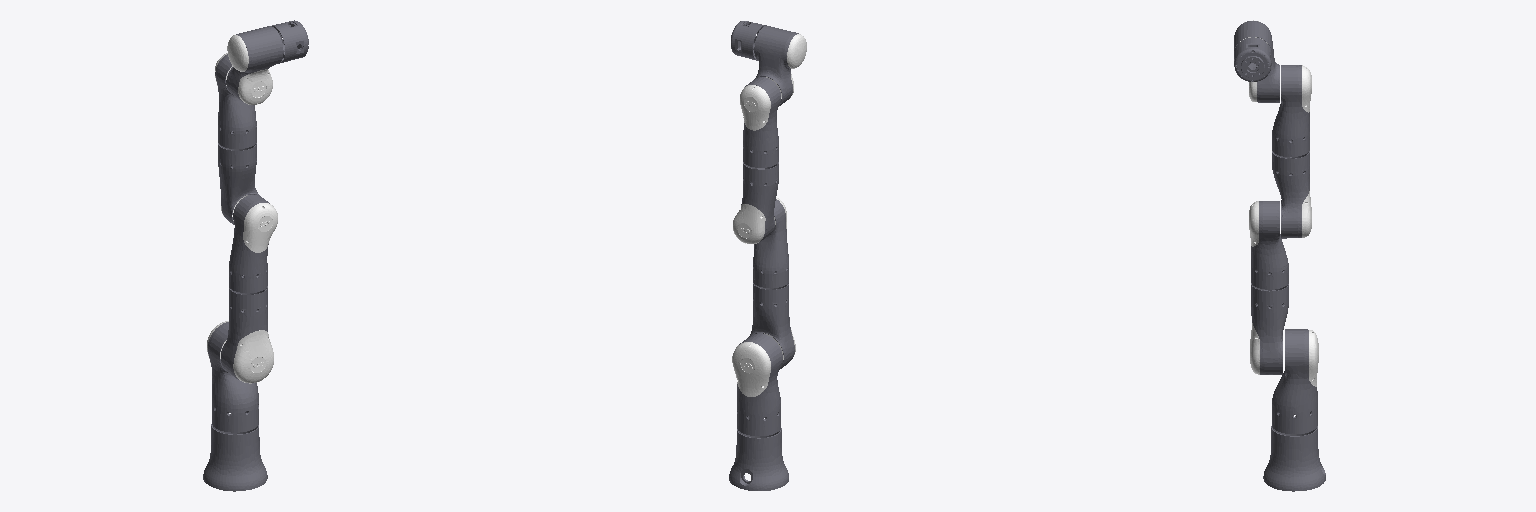
robot.urdf — flexiv_rizon4:
<?xml version="1.0"?>
<!-- ======================================================================== -->
<!-- | Flexiv Rizon4 Arm (Approximated dynamic parameters)                  | -->
<!-- ======================================================================== -->
<robot name="flexiv_rizon4">
  <!-- ============================ Link Configuration ===================== -->
  <link name="world" />
  <!-- ============ base link =========== -->
  <link name="base">
    <inertial>
      <mass value="3.6" />
      <origin rpy="0 0 0" xyz="0.0 0.0 0.09" />
      <inertia ixx="0.02" iyy="0.02" izz="0.009" ixy="0" ixz="0" iyz="0" />
    </inertial>
    <visual>
      <origin rpy="0 0 0" xyz="0 0 0" />
      <geometry>
        <mesh filename="meshes/visual/link0.dae" />
      </geometry>
    </visual>
    <collision>
      <origin xyz="0 0 0" rpy="0 0 0" />
      <geometry>
        <mesh filename="meshes/collision/link0.stl" />
      </geometry>
    </collision>
  </link>
  <!-- ============ link 1 ============= -->
  <link name="link1">
    <inertial>
      <mass value="3.6" />
      <origin rpy="0 0 0" xyz="0.0 0.005 0.15" />
      <inertia ixx="0.027" iyy="0.027" izz="0.007" ixy="0" ixz="0" iyz="0.0016" />
    </inertial>
    <visual>
      <origin rpy="0 0 0" xyz="0 0 0" />
      <geometry>
        <mesh filename="meshes/visual/link1.dae" />
      </geometry>
    </visual>
    <collision>
      <origin xyz="0 0 0" rpy="0 0 0" />
      <geometry>
        <mesh filename="meshes/collision/link1.stl" />
      </geometry>
    </collision>
  </link>
  <!-- ============ link 2 ============= -->
  <link name="link2">
    <inertial>
      <mass value="2.7" />
      <origin rpy="0 0 0" xyz="0.0 0.036 0.1" />
      <inertia ixx="0.023" iyy="0.023" izz="0.004" ixy="0" ixz="0" iyz="0.0003" />
    </inertial>
    <visual>
      <origin rpy="0 0 0" xyz="0 0 0" />
      <geometry>
        <mesh filename="meshes/visual/link2.dae" />
      </geometry>
    </visual>
    <collision>
      <origin xyz="0 0 0" rpy="0 0 0" />
      <geometry>
        <mesh filename="meshes/collision/link2.stl" />
      </geometry>
    </collision>
  </link>
  <!-- ============ link 3 ============= -->
  <link name="link3">
    <inertial>
      <mass value="2.5" />
      <origin rpy="0 0 0" xyz="-0.011 0.0 0.13" />
      <inertia ixx="0.015" iyy="0.015" izz="0.004" ixy="0.0" ixz="-0.002" iyz="0.0" />
    </inertial>
    <visual>
      <origin rpy="0 0 0" xyz="0 0 0" />
      <geometry>
        <mesh filename="meshes/visual/link3.dae" />
      </geometry>
    </visual>
    <collision>
      <origin xyz="0 0 0" rpy="0 0 0" />
      <geometry>
        <mesh filename="meshes/collision/link3.stl" />
      </geometry>
    </collision>
  </link>
  <!-- ============ link 4 ============= -->
  <link name="link4">
    <inertial>
      <mass value="2.45" />
      <origin rpy="0 0 0" xyz="-0.012 0.03 0.097" />
      <inertia ixx="0.02" iyy="0.02" izz="0.003" ixy="0.0" ixz="-0.002" iyz="-0.001" />
    </inertial>
    <visual>
      <origin rpy="0 0 0" xyz="0 0 0" />
      <geometry>
        <mesh filename="meshes/visual/link4.dae" />
      </geometry>
    </visual>
    <collision>
      <origin xyz="0 0 0" rpy="0 0 0" />
      <geometry>
        <mesh filename="meshes/collision/link4.stl" />
      </geometry>
    </collision>
  </link>
  <!-- ============ link 5 ============= -->
  <link name="link5">
    <inertial>
      <mass value="2.4" />
      <origin rpy="0 0 0" xyz="0.0 0.0 0.13" />
      <inertia ixx="0.015" iyy="0.014" izz="0.004" ixy="0" ixz="0.0" iyz="0.0008" />
    </inertial>
    <visual>
      <origin rpy="0 0 0" xyz="0 0 0" />
      <geometry>
        <mesh filename="meshes/visual/link5.dae" />
      </geometry>
    </visual>
    <collision>
      <origin xyz="0 0 0" rpy="0 0 0" />
      <geometry>
        <mesh filename="meshes/collision/link5.stl" />
      </geometry>
    </collision>
  </link>
  <!-- ============ link 6 ============= -->
  <link name="link6">
    <inertial>
      <mass value="2.2" />
      <origin rpy="0 0 0" xyz="0.009 0.055 0.066" />
      <inertia ixx="0.009" iyy="0.009" izz="0.004" ixy="0" ixz="0" iyz="0.002" />
    </inertial>
    <visual>
      <origin rpy="0 0 0" xyz="0 0 0" />
      <geometry>
        <mesh filename="meshes/visual/link6.dae" />
      </geometry>
    </visual>
    <collision>
      <origin xyz="0 0 0" rpy="0 0 0" />
      <geometry>
        <mesh filename="meshes/collision/link6.stl" />
      </geometry>
    </collision>
  </link>

  <!-- ============ link 7 ============= -->
  <link name="link7">
    <inertial>
      <mass value="0.94" />
      <origin rpy="0 0 0" xyz="0.0 0.0 0.025" />
      <inertia ixx="0.0012" iyy="0.0012" izz="0.0011" ixy="0" ixz="0" iyz="0" />
    </inertial>
    <visual>
      <origin rpy="0 0 0" xyz="0 0 0" />
      <geometry>
        <mesh filename="meshes/visual/link7.dae" />
      </geometry>
    </visual>
    <collision>
      <origin xyz="0 0 0" rpy="0 0 0" />
      <geometry>
        <mesh filename="meshes/collision/link7.stl" />
      </geometry>
    </collision>
  </link>

  <!-- ============ flange ============= -->
  <link name="flange">
    <inertial>
      <mass value="0.0" />
      <origin rpy="0 0 0" xyz="0 0 0" />
      <inertia ixx="0.0" iyy="0.0" izz="0.0" ixy="0.0" ixz="0.0" iyz="0.0" />
    </inertial>
  </link>

  <!-- ========================= Joint Configuration ======================= -->
  <!-- ============ joint 0 =============== -->
  <joint name="joint0" type="fixed">
    <origin rpy="0 0 0" xyz="0 0 0" />
    <parent link="world" />
    <child link="base" />
  </joint>

  <!-- ============ joint 1 =============== -->
  <joint name="joint1" type="revolute">
    <origin rpy="0 0 3.1415927" xyz="0.0 0.0 0.155" />
    <axis xyz="0 0 1" />
    <limit effort="123" lower="-2.7925" upper="2.7925" velocity="2.0944" />
    <dynamics damping="0.1" />
    <parent link="base" />
    <child link="link1" />
  </joint>

  <!-- ============ joint 2 =============== -->
  <joint name="joint2" type="revolute">
    <origin rpy="0 0 0" xyz="0.0 0.03 0.210" />
    <axis xyz="0 1 0" />
    <limit effort="123" lower="-2.2689" upper="2.2689" velocity="2.0944" />
    <dynamics damping="0.1" />
    <parent link="link1" />
    <child link="link2" />
  </joint>

  <!-- ============ joint 3 =============== -->
  <joint name="joint3" type="revolute">
    <origin rpy="0 0 0" xyz="0.0 0.035 0.205" />
    <axis xyz="0 0 1" />
    <limit effort="64" lower="-2.9671" upper="2.9671" velocity="2.4435" />
    <dynamics damping="0.1" />
    <parent link="link2" />
    <child link="link3" />
  </joint>

  <!-- ============ joint 4 =============== -->
  <joint name="joint4" type="revolute">
    <origin rpy="0 0 -3.1415927" xyz="-0.02 -0.03 0.19" />
    <axis xyz="0 1 0" />
    <limit effort="64" lower="-1.8675" upper="2.6878" velocity="2.4435" />
    <dynamics damping="0.1" />
    <parent link="link3" />
    <child link="link4" />
  </joint>

  <!-- ============ joint 5 =============== -->
  <joint name="joint5" type="revolute">
    <origin rpy="0 0 -3.1415927" xyz="-0.02 0.025 0.195" />
    <axis xyz="0 0 1" />
    <limit effort="39" lower="-2.9671" upper="2.9671" velocity="4.8869" />
    <dynamics damping="0.1" />
    <parent link="link4" />
    <child link="link5" />
  </joint>

  <!-- ============ joint 6 =============== -->
  <joint name="joint6" type="revolute">
    <origin rpy="0 0 0" xyz="0.0 0.03 0.19" />
    <axis xyz="0 1 0" />
    <limit effort="39" lower="-1.3963" upper="4.5379" velocity="4.8869" />
    <dynamics damping="0.1" />
    <parent link="link5" />
    <child link="link6" />
  </joint>

  <!-- ============ joint 7 =============== -->
  <joint name="joint7" type="revolute">
    <origin rpy="0 -1.5707963 0" xyz="-0.055 0.070 0.11" />
    <axis xyz="0 0 1" />
    <limit effort="39" lower="-2.9671" upper="2.9671" velocity="4.8869" />
    <dynamics damping="0.1" />
    <parent link="link6" />
    <child link="link7" />
  </joint>
  <!-- ============ joint flange =============== -->
  <joint name="jointF" type="fixed">
    <origin rpy="0 0 -3.1415927" xyz="0.0 0.0 0.074" />
    <parent link="link7" />
    <child link="flange" />
  </joint>
</robot>

--- Render facts (derived) ---
3 views of the same robot in one strip: view 1: azimuth 30°, elevation 25°; view 2: azimuth 150°, elevation 25°; view 3: azimuth 270°, elevation 25° (orthographic).
Model flexiv_rizon4 with 10 links and 9 joints (7 revolute, 2 fixed), rooted at world, posed every joint at zero.
Visible links, largest first — view 1: link2, link3, link6, base, link1, link5, link4, link7; view 2: link1, link5, base, link4, link6, link2, link3, link7; view 3: link1, base, link5, link2, link3, link4, link6, link7.
Boxes of the visible links, <box> form: link2: <box>221,286,273,383</box>; link3: <box>229,195,277,292</box>; link6: <box>226,26,283,104</box>; base: <box>203,424,267,491</box>; link1: <box>207,321,258,432</box>; link5: <box>215,53,256,148</box>; link4: <box>218,143,259,224</box>; link7: <box>272,20,308,63</box>; link1: <box>732,333,782,435</box>; link5: <box>740,77,780,167</box>; base: <box>729,428,788,490</box>; link4: <box>733,162,778,243</box>; link6: <box>754,26,806,105</box>; link2: <box>749,283,795,368</box>; link3: <box>753,197,788,287</box>; link7: <box>731,21,766,60</box>; link1: <box>1272,329,1318,433</box>; base: <box>1263,426,1325,491</box>; link5: <box>1272,65,1311,156</box>; link2: <box>1250,283,1288,374</box>; link3: <box>1249,201,1288,289</box>; link4: <box>1272,151,1311,238</box>; link6: <box>1234,20,1279,102</box>; link7: <box>1234,37,1271,81</box>.
Bounding box of the posed robot: 0.2186 × 0.2425 × 1.31 m (x, y, z).
8 mesh visuals loaded from 8 distinct referenced files (8 Collada DAE).
